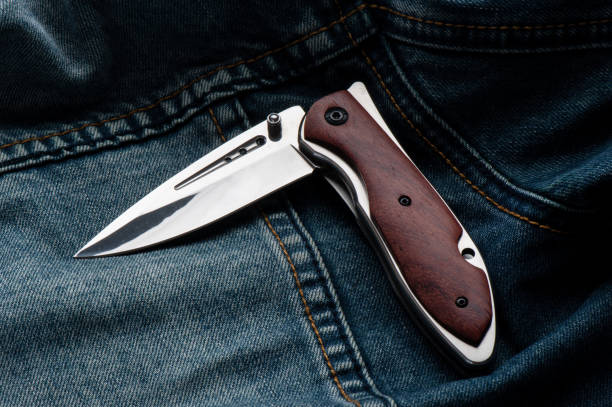knife: (71, 79, 497, 362)
